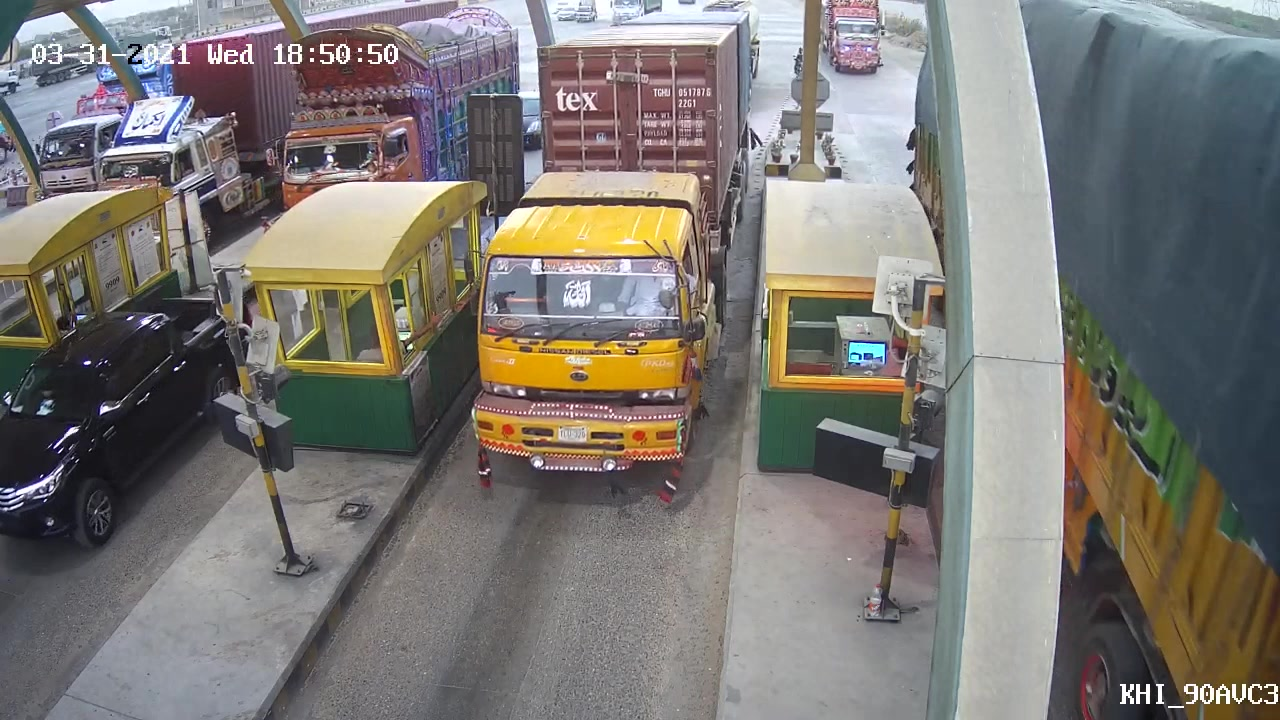F6: (459, 1, 772, 496)
